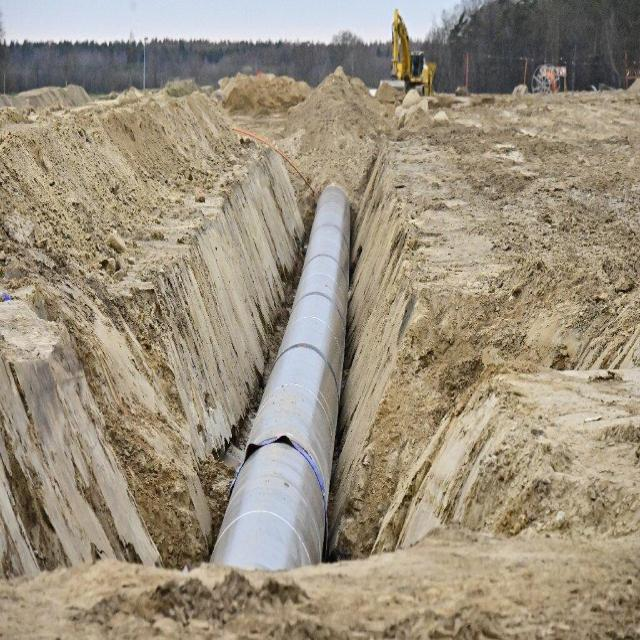gas: (215, 184, 352, 558)
